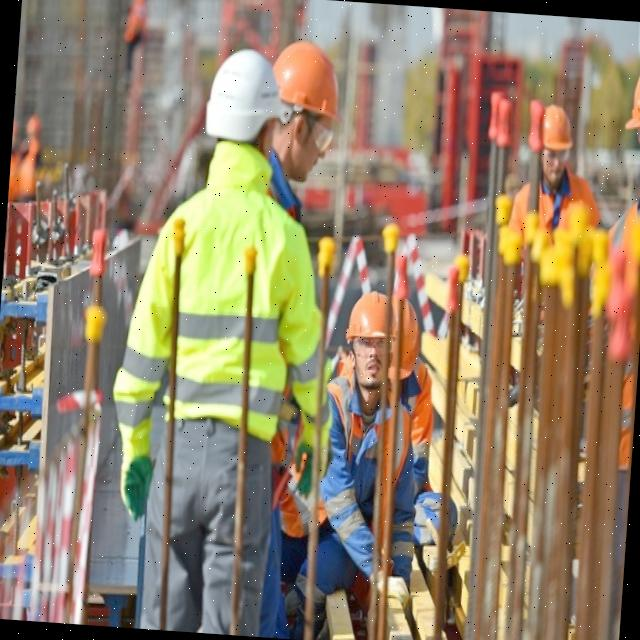Helmet: (205, 49, 287, 150), (271, 41, 347, 132), (347, 293, 400, 352), (393, 303, 428, 388), (542, 104, 576, 160), (622, 53, 640, 143)
Jacket: (171, 164, 290, 430)
